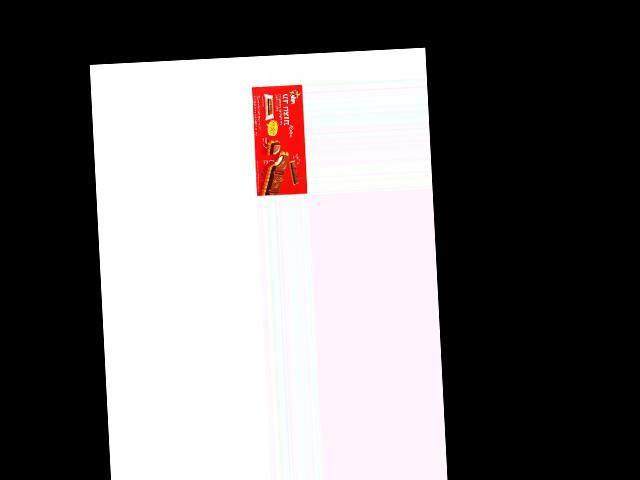chocolate: (250, 82, 308, 196)
